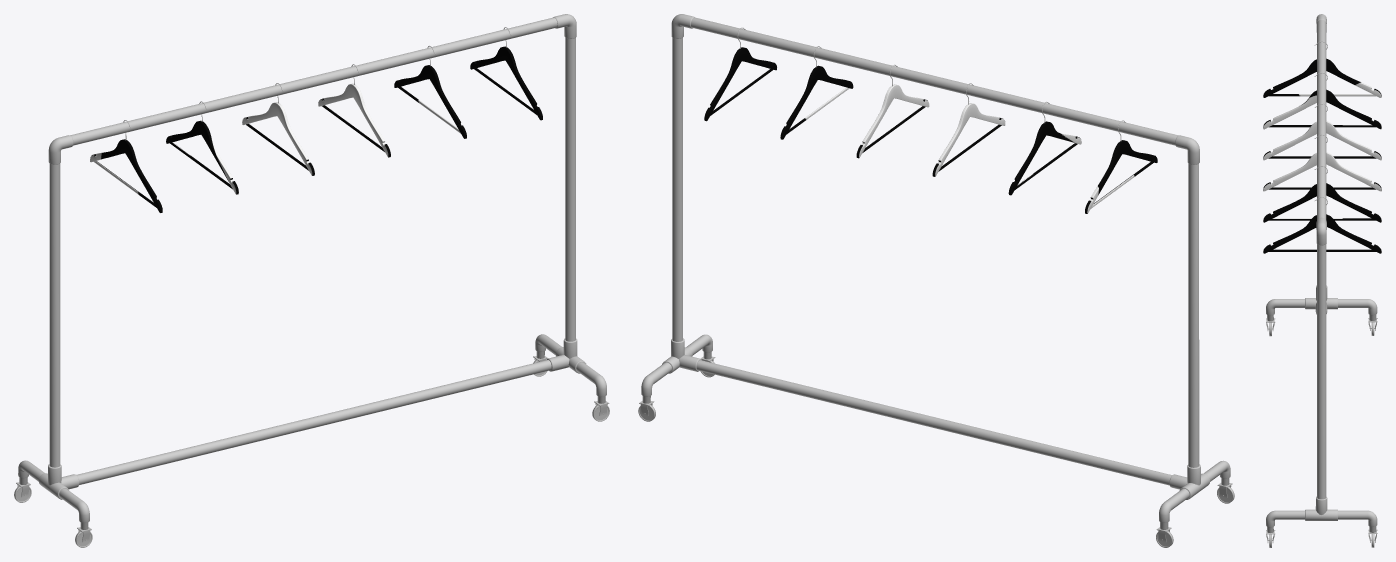
The model's file is uploads_files_5314857_Clothing_Rack_CgTrader.fbx.
3 views of the same model, side by side, from view 1: azimuth 30°, elevation 25°; view 2: azimuth 150°, elevation 25°; view 3: azimuth 270°, elevation 25° (orthographic). The views are drawn at different scales.
Parts seen in each view (by area): view 1: rack, Hangers, plastic_protectors; view 2: rack, Hangers, plastic_protectors; view 3: Hangers, rack, plastic_protectors, metal_stuff, wheels.
Boxes of the visible parts, x1,y1,x2,y2 form: rack: (18, 17, 606, 529); Hangers: (90, 46, 542, 212); plastic_protectors: (38, 14, 586, 499); rack: (641, 17, 1230, 529); Hangers: (704, 47, 1157, 213); plastic_protectors: (662, 14, 1210, 499); Hangers: (1263, 58, 1381, 253); rack: (1266, 19, 1377, 532); plastic_protectors: (1305, 14, 1337, 520); metal_stuff: (1266, 318, 1377, 542); wheels: (1269, 322, 1374, 547).
Size of the model in its own units: 196 by 136 by 44.91.
